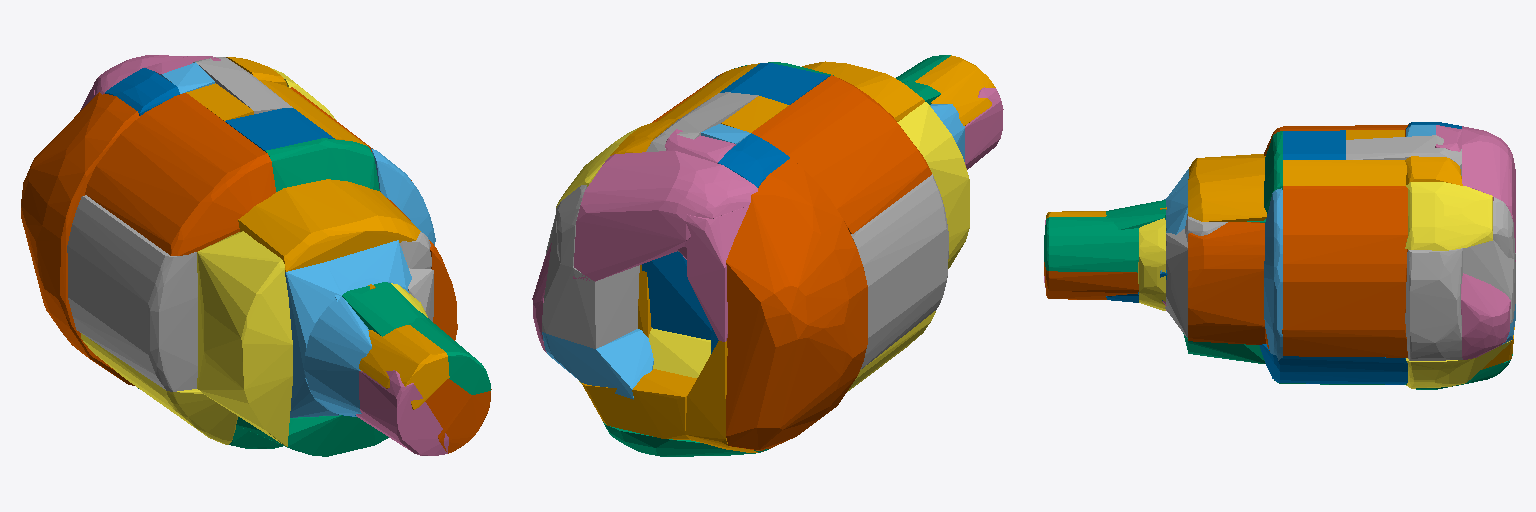
--- Facts derived from the render (not from the file) ---
3 views of the same robot in one strip: view 1: azimuth 30°, elevation 25°; view 2: azimuth 150°, elevation 25°; view 3: azimuth 270°, elevation 25° (orthographic).
Robot: root — 64 links, 63 joints (63 fixed); root link link_screw~screw2_convex_piece_0; default pose: every joint at zero.
Links seen in each view (by area): view 1: link_screw~screw2_convex_piece_61, link_screw~screw2_convex_piece_31, link_screw~screw2_convex_piece_51, link_screw~screw2_convex_piece_45, link_screw~screw2_convex_piece_32, link_screw~screw2_convex_piece_57, link_screw~screw2_convex_piece_54, link_screw~screw2_convex_piece_26, link_screw~screw2_convex_piece_25, link_screw~screw2_convex_piece_48, link_screw~screw2_convex_piece_43, link_screw~screw2_convex_piece_42 (+17 smaller); view 2: link_screw~screw2_convex_piece_45, link_screw~screw2_convex_piece_62, link_screw~screw2_convex_piece_61, link_screw~screw2_convex_piece_31, link_screw~screw2_convex_piece_55, link_screw~screw2_convex_piece_56, link_screw~screw2_convex_piece_51, link_screw~screw2_convex_piece_6, link_screw~screw2_convex_piece_33, link_screw~screw2_convex_piece_60, link_screw~screw2_convex_piece_40, link_screw~screw2_convex_piece_48 (+18 smaller); view 3: link_screw~screw2_convex_piece_21, link_screw~screw2_convex_piece_29, link_screw~screw2_convex_piece_23, link_screw~screw2_convex_piece_19, link_screw~screw2_convex_piece_32, link_screw~screw2_convex_piece_18, link_screw~screw2_convex_piece_28, link_screw~screw2_convex_piece_37, link_screw~screw2_convex_piece_62, link_screw~screw2_convex_piece_22, link_screw~screw2_convex_piece_24, link_screw~screw2_convex_piece_41 (+15 smaller).
Boxes of the visible links, left/top/right/bottom form: link_screw~screw2_convex_piece_61: left=85, top=93, right=275, bottom=255; link_screw~screw2_convex_piece_31: left=67, top=195, right=197, bottom=391; link_screw~screw2_convex_piece_51: left=197, top=231, right=292, bottom=446; link_screw~screw2_convex_piece_45: left=21, top=92, right=139, bottom=385; link_screw~screw2_convex_piece_32: left=238, top=179, right=420, bottom=271; link_screw~screw2_convex_piece_57: left=304, top=296, right=371, bottom=416; link_screw~screw2_convex_piece_54: left=356, top=370, right=448, bottom=455; link_screw~screw2_convex_piece_26: left=265, top=138, right=379, bottom=191; link_screw~screw2_convex_piece_25: left=285, top=262, right=341, bottom=417; link_screw~screw2_convex_piece_48: left=359, top=325, right=449, bottom=409; link_screw~screw2_convex_piece_43: left=81, top=333, right=238, bottom=444; link_screw~screw2_convex_piece_42: left=236, top=415, right=388, bottom=456; link_screw~screw2_convex_piece_45: left=726, top=158, right=867, bottom=451; link_screw~screw2_convex_piece_62: left=573, top=151, right=757, bottom=281; link_screw~screw2_convex_piece_61: left=752, top=75, right=931, bottom=233; link_screw~screw2_convex_piece_31: left=851, top=174, right=948, bottom=369; link_screw~screw2_convex_piece_55: left=542, top=217, right=639, bottom=348; link_screw~screw2_convex_piece_56: left=582, top=369, right=696, bottom=440; link_screw~screw2_convex_piece_51: left=897, top=102, right=969, bottom=268; link_screw~screw2_convex_piece_6: left=686, top=206, right=748, bottom=341; link_screw~screw2_convex_piece_33: left=542, top=329, right=653, bottom=399; link_screw~screw2_convex_piece_60: left=642, top=251, right=711, bottom=339; link_screw~screw2_convex_piece_40: left=685, top=341, right=757, bottom=452; link_screw~screw2_convex_piece_48: left=915, top=55, right=995, bottom=125; link_screw~screw2_convex_piece_21: left=1283, top=186, right=1407, bottom=329; link_screw~screw2_convex_piece_29: left=1188, top=222, right=1265, bottom=344; link_screw~screw2_convex_piece_23: left=1405, top=248, right=1462, bottom=360; link_screw~screw2_convex_piece_19: left=1405, top=182, right=1492, bottom=250; link_screw~screw2_convex_piece_32: left=1188, top=154, right=1266, bottom=221; link_screw~screw2_convex_piece_18: left=1044, top=217, right=1138, bottom=272; link_screw~screw2_convex_piece_28: left=1259, top=344, right=1407, bottom=384; link_screw~screw2_convex_piece_37: left=1265, top=324, right=1407, bottom=357; link_screw~screw2_convex_piece_62: left=1462, top=126, right=1515, bottom=261; link_screw~screw2_convex_piece_22: left=1461, top=273, right=1510, bottom=359; link_screw~screw2_convex_piece_24: left=1283, top=160, right=1406, bottom=185; link_screw~screw2_convex_piece_41: left=1264, top=188, right=1282, bottom=360.
Bounding box of the posed robot: 0.0341 × 0.0612 × 0.0346 m (x, y, z).
64 mesh visuals loaded from 64 distinct referenced files (64 OBJ).

URDF robot description (root):
<robot name="root">
  <link name="link_screw~screw2_convex_piece_0">
    <inertial>
      <origin xyz="0 0 0" rpy="0 0 0"/>
      <mass value="4.80E-04"/>
      <inertia ixx="9.96E-08" ixy="2.38E-09" ixz="8.96E-09" iyy="9.27E-08" iyz="-2.38E-08" izz="9.88E-09"/>
    </inertial>
    <visual>
      <origin xyz="0 0 0" rpy="0 0 0"/>
      <geometry>
        <mesh filename="screw~screw2_convex_piece_0.obj" scale="1.0000E+00 1.0000E+00 1.0000E+00"/>
      </geometry>
      <material name=""/>
    </visual>
    <collision>
      <origin xyz="0 0 0" rpy="0 0 0"/>
      <geometry>
        <mesh filename="screw~screw2_convex_piece_0.obj" scale="1.0000E+00 1.0000E+00 1.0000E+00"/>
      </geometry>
    </collision>
  </link>
  <link name="link_screw~screw2_convex_piece_1">
    <inertial>
      <origin xyz="0 0 0" rpy="0 0 0"/>
      <mass value="1.46E-03"/>
      <inertia ixx="6.79E-08" ixy="-4.08E-08" ixz="-9.71E-09" iyy="1.22E-07" iyz="-4.87E-09" izz="1.10E-07"/>
    </inertial>
    <visual>
      <origin xyz="0 0 0" rpy="0 0 0"/>
      <geometry>
        <mesh filename="screw~screw2_convex_piece_1.obj" scale="1.0000E+00 1.0000E+00 1.0000E+00"/>
      </geometry>
      <material name=""/>
    </visual>
    <collision>
      <origin xyz="0 0 0" rpy="0 0 0"/>
      <geometry>
        <mesh filename="screw~screw2_convex_piece_1.obj" scale="1.0000E+00 1.0000E+00 1.0000E+00"/>
      </geometry>
    </collision>
  </link>
  <joint name="link_screw~screw2_convex_piece_1_joint" type="fixed">
    <origin xyz="0 0 0" rpy="0 0 0"/>
    <parent link="link_screw~screw2_convex_piece_0"/>
    <child link="link_screw~screw2_convex_piece_1"/>
  </joint>
  <link name="link_screw~screw2_convex_piece_2">
    <inertial>
      <origin xyz="0 0 0" rpy="0 0 0"/>
      <mass value="2.32E-03"/>
      <inertia ixx="2.41E-07" ixy="1.24E-07" ixz="-7.33E-08" iyy="1.83E-07" iyz="7.82E-08" izz="3.02E-07"/>
    </inertial>
    <visual>
      <origin xyz="0 0 0" rpy="0 0 0"/>
      <geometry>
        <mesh filename="screw~screw2_convex_piece_2.obj" scale="1.0000E+00 1.0000E+00 1.0000E+00"/>
      </geometry>
      <material name=""/>
    </visual>
    <collision>
      <origin xyz="0 0 0" rpy="0 0 0"/>
      <geometry>
        <mesh filename="screw~screw2_convex_piece_2.obj" scale="1.0000E+00 1.0000E+00 1.0000E+00"/>
      </geometry>
    </collision>
  </link>
  <joint name="link_screw~screw2_convex_piece_2_joint" type="fixed">
    <origin xyz="0 0 0" rpy="0 0 0"/>
    <parent link="link_screw~screw2_convex_piece_1"/>
    <child link="link_screw~screw2_convex_piece_2"/>
  </joint>
  <link name="link_screw~screw2_convex_piece_3">
    <inertial>
      <origin xyz="0 0 0" rpy="0 0 0"/>
      <mass value="2.25E-03"/>
      <inertia ixx="9.09E-08" ixy="-6.30E-09" ixz="3.93E-09" iyy="2.51E-07" iyz="6.46E-10" izz="2.57E-07"/>
    </inertial>
    <visual>
      <origin xyz="0 0 0" rpy="0 0 0"/>
      <geometry>
        <mesh filename="screw~screw2_convex_piece_3.obj" scale="1.0000E+00 1.0000E+00 1.0000E+00"/>
      </geometry>
      <material name=""/>
    </visual>
    <collision>
      <origin xyz="0 0 0" rpy="0 0 0"/>
      <geometry>
        <mesh filename="screw~screw2_convex_piece_3.obj" scale="1.0000E+00 1.0000E+00 1.0000E+00"/>
      </geometry>
    </collision>
  </link>
  <joint name="link_screw~screw2_convex_piece_3_joint" type="fixed">
    <origin xyz="0 0 0" rpy="0 0 0"/>
    <parent link="link_screw~screw2_convex_piece_2"/>
    <child link="link_screw~screw2_convex_piece_3"/>
  </joint>
  <link name="link_screw~screw2_convex_piece_4">
    <inertial>
      <origin xyz="0 0 0" rpy="0 0 0"/>
      <mass value="1.32E-03"/>
      <inertia ixx="2.61E-07" ixy="5.47E-09" ixz="-1.68E-08" iyy="2.40E-07" iyz="7.14E-08" izz="3.89E-08"/>
    </inertial>
    <visual>
      <origin xyz="0 0 0" rpy="0 0 0"/>
      <geometry>
        <mesh filename="screw~screw2_convex_piece_4.obj" scale="1.0000E+00 1.0000E+00 1.0000E+00"/>
      </geometry>
      <material name=""/>
    </visual>
    <collision>
      <origin xyz="0 0 0" rpy="0 0 0"/>
      <geometry>
        <mesh filename="screw~screw2_convex_piece_4.obj" scale="1.0000E+00 1.0000E+00 1.0000E+00"/>
      </geometry>
    </collision>
  </link>
  <joint name="link_screw~screw2_convex_piece_4_joint" type="fixed">
    <origin xyz="0 0 0" rpy="0 0 0"/>
    <parent link="link_screw~screw2_convex_piece_3"/>
    <child link="link_screw~screw2_convex_piece_4"/>
  </joint>
  <link name="link_screw~screw2_convex_piece_5">
    <inertial>
      <origin xyz="0 0 0" rpy="0 0 0"/>
      <mass value="1.28E-03"/>
      <inertia ixx="1.69E-07" ixy="2.48E-08" ixz="-2.32E-08" iyy="7.94E-08" iyz="7.00E-08" izz="1.11E-07"/>
    </inertial>
    <visual>
      <origin xyz="0 0 0" rpy="0 0 0"/>
      <geometry>
        <mesh filename="screw~screw2_convex_piece_5.obj" scale="1.0000E+00 1.0000E+00 1.0000E+00"/>
      </geometry>
      <material name=""/>
    </visual>
    <collision>
      <origin xyz="0 0 0" rpy="0 0 0"/>
      <geometry>
        <mesh filename="screw~screw2_convex_piece_5.obj" scale="1.0000E+00 1.0000E+00 1.0000E+00"/>
      </geometry>
    </collision>
  </link>
  <joint name="link_screw~screw2_convex_piece_5_joint" type="fixed">
    <origin xyz="0 0 0" rpy="0 0 0"/>
    <parent link="link_screw~screw2_convex_piece_4"/>
    <child link="link_screw~screw2_convex_piece_5"/>
  </joint>
  <link name="link_screw~screw2_convex_piece_6">
    <inertial>
      <origin xyz="0 0 0" rpy="0 0 0"/>
      <mass value="9.29E-04"/>
      <inertia ixx="3.83E-07" ixy="1.06E-07" ixz="4.30E-08" iyy="1.02E-07" iyz="-1.31E-07" izz="3.55E-07"/>
    </inertial>
    <visual>
      <origin xyz="0 0 0" rpy="0 0 0"/>
      <geometry>
        <mesh filename="screw~screw2_convex_piece_6.obj" scale="1.0000E+00 1.0000E+00 1.0000E+00"/>
      </geometry>
      <material name=""/>
    </visual>
    <collision>
      <origin xyz="0 0 0" rpy="0 0 0"/>
      <geometry>
        <mesh filename="screw~screw2_convex_piece_6.obj" scale="1.0000E+00 1.0000E+00 1.0000E+00"/>
      </geometry>
    </collision>
  </link>
  <joint name="link_screw~screw2_convex_piece_6_joint" type="fixed">
    <origin xyz="0 0 0" rpy="0 0 0"/>
    <parent link="link_screw~screw2_convex_piece_5"/>
    <child link="link_screw~screw2_convex_piece_6"/>
  </joint>
  <link name="link_screw~screw2_convex_piece_7">
    <inertial>
      <origin xyz="0 0 0" rpy="0 0 0"/>
      <mass value="6.60E-04"/>
      <inertia ixx="4.32E-08" ixy="6.38E-09" ixz="-4.72E-09" iyy="1.26E-08" iyz="9.68E-09" izz="3.71E-08"/>
    </inertial>
    <visual>
      <origin xyz="0 0 0" rpy="0 0 0"/>
      <geometry>
        <mesh filename="screw~screw2_convex_piece_7.obj" scale="1.0000E+00 1.0000E+00 1.0000E+00"/>
      </geometry>
      <material name=""/>
    </visual>
    <collision>
      <origin xyz="0 0 0" rpy="0 0 0"/>
      <geometry>
        <mesh filename="screw~screw2_convex_piece_7.obj" scale="1.0000E+00 1.0000E+00 1.0000E+00"/>
      </geometry>
    </collision>
  </link>
  <joint name="link_screw~screw2_convex_piece_7_joint" type="fixed">
    <origin xyz="0 0 0" rpy="0 0 0"/>
    <parent link="link_screw~screw2_convex_piece_6"/>
    <child link="link_screw~screw2_convex_piece_7"/>
  </joint>
  <link name="link_screw~screw2_convex_piece_8">
    <inertial>
      <origin xyz="0 0 0" rpy="0 0 0"/>
      <mass value="1.54E-03"/>
      <inertia ixx="2.80E-07" ixy="-2.35E-08" ixz="8.76E-09" iyy="3.37E-08" iyz="6.24E-08" izz="2.57E-07"/>
    </inertial>
    <visual>
      <origin xyz="0 0 0" rpy="0 0 0"/>
      <geometry>
        <mesh filename="screw~screw2_convex_piece_8.obj" scale="1.0000E+00 1.0000E+00 1.0000E+00"/>
      </geometry>
      <material name=""/>
    </visual>
    <collision>
      <origin xyz="0 0 0" rpy="0 0 0"/>
      <geometry>
        <mesh filename="screw~screw2_convex_piece_8.obj" scale="1.0000E+00 1.0000E+00 1.0000E+00"/>
      </geometry>
    </collision>
  </link>
  <joint name="link_screw~screw2_convex_piece_8_joint" type="fixed">
    <origin xyz="0 0 0" rpy="0 0 0"/>
    <parent link="link_screw~screw2_convex_piece_7"/>
    <child link="link_screw~screw2_convex_piece_8"/>
  </joint>
  <link name="link_screw~screw2_convex_piece_9">
    <inertial>
      <origin xyz="0 0 0" rpy="0 0 0"/>
      <mass value="2.65E-03"/>
      <inertia ixx="3.70E-07" ixy="1.79E-07" ixz="6.34E-08" iyy="1.86E-07" iyz="-8.53E-08" izz="4.64E-07"/>
    </inertial>
    <visual>
      <origin xyz="0 0 0" rpy="0 0 0"/>
      <geometry>
        <mesh filename="screw~screw2_convex_piece_9.obj" scale="1.0000E+00 1.0000E+00 1.0000E+00"/>
      </geometry>
      <material name=""/>
    </visual>
    <collision>
      <origin xyz="0 0 0" rpy="0 0 0"/>
      <geometry>
        <mesh filename="screw~screw2_convex_piece_9.obj" scale="1.0000E+00 1.0000E+00 1.0000E+00"/>
      </geometry>
    </collision>
  </link>
  <joint name="link_screw~screw2_convex_piece_9_joint" type="fixed">
    <origin xyz="0 0 0" rpy="0 0 0"/>
    <parent link="link_screw~screw2_convex_piece_8"/>
    <child link="link_screw~screw2_convex_piece_9"/>
  </joint>
  <link name="link_screw~screw2_convex_piece_10">
    <inertial>
      <origin xyz="0 0 0" rpy="0 0 0"/>
      <mass value="1.97E-03"/>
      <inertia ixx="5.12E-07" ixy="-1.03E-08" ixz="1.30E-08" iyy="2.84E-07" iyz="2.49E-07" izz="3.28E-07"/>
    </inertial>
    <visual>
      <origin xyz="0 0 0" rpy="0 0 0"/>
      <geometry>
        <mesh filename="screw~screw2_convex_piece_10.obj" scale="1.0000E+00 1.0000E+00 1.0000E+00"/>
      </geometry>
      <material name=""/>
    </visual>
    <collision>
      <origin xyz="0 0 0" rpy="0 0 0"/>
      <geometry>
        <mesh filename="screw~screw2_convex_piece_10.obj" scale="1.0000E+00 1.0000E+00 1.0000E+00"/>
      </geometry>
    </collision>
  </link>
  <joint name="link_screw~screw2_convex_piece_10_joint" type="fixed">
    <origin xyz="0 0 0" rpy="0 0 0"/>
    <parent link="link_screw~screw2_convex_piece_9"/>
    <child link="link_screw~screw2_convex_piece_10"/>
  </joint>
  <link name="link_screw~screw2_convex_piece_11">
    <inertial>
      <origin xyz="0 0 0" rpy="0 0 0"/>
      <mass value="3.14E-03"/>
      <inertia ixx="3.65E-07" ixy="-4.70E-08" ixz="8.01E-08" iyy="2.36E-07" iyz="9.63E-08" izz="2.45E-07"/>
    </inertial>
    <visual>
      <origin xyz="0 0 0" rpy="0 0 0"/>
      <geometry>
        <mesh filename="screw~screw2_convex_piece_11.obj" scale="1.0000E+00 1.0000E+00 1.0000E+00"/>
      </geometry>
      <material name=""/>
    </visual>
    <collision>
      <origin xyz="0 0 0" rpy="0 0 0"/>
      <geometry>
        <mesh filename="screw~screw2_convex_piece_11.obj" scale="1.0000E+00 1.0000E+00 1.0000E+00"/>
      </geometry>
    </collision>
  </link>
  <joint name="link_screw~screw2_convex_piece_11_joint" type="fixed">
    <origin xyz="0 0 0" rpy="0 0 0"/>
    <parent link="link_screw~screw2_convex_piece_10"/>
    <child link="link_screw~screw2_convex_piece_11"/>
  </joint>
  <link name="link_screw~screw2_convex_piece_12">
    <inertial>
      <origin xyz="0 0 0" rpy="0 0 0"/>
      <mass value="5.05E-03"/>
      <inertia ixx="3.67E-07" ixy="-1.09E-07" ixz="-2.01E-08" iyy="2.59E-07" iyz="-1.55E-08" izz="4.71E-07"/>
    </inertial>
    <visual>
      <origin xyz="0 0 0" rpy="0 0 0"/>
      <geometry>
        <mesh filename="screw~screw2_convex_piece_12.obj" scale="1.0000E+00 1.0000E+00 1.0000E+00"/>
      </geometry>
      <material name=""/>
    </visual>
    <collision>
      <origin xyz="0 0 0" rpy="0 0 0"/>
      <geometry>
        <mesh filename="screw~screw2_convex_piece_12.obj" scale="1.0000E+00 1.0000E+00 1.0000E+00"/>
      </geometry>
    </collision>
  </link>
  <joint name="link_screw~screw2_convex_piece_12_joint" type="fixed">
    <origin xyz="0 0 0" rpy="0 0 0"/>
    <parent link="link_screw~screw2_convex_piece_11"/>
    <child link="link_screw~screw2_convex_piece_12"/>
  </joint>
  <link name="link_screw~screw2_convex_piece_13">
    <inertial>
      <origin xyz="0 0 0" rpy="0 0 0"/>
      <mass value="2.34E-03"/>
      <inertia ixx="2.57E-07" ixy="2.54E-10" ixz="7.43E-10" iyy="2.53E-07" iyz="-6.85E-09" izz="9.65E-08"/>
    </inertial>
    <visual>
      <origin xyz="0 0 0" rpy="0 0 0"/>
      <geometry>
        <mesh filename="screw~screw2_convex_piece_13.obj" scale="1.0000E+00 1.0000E+00 1.0000E+00"/>
      </geometry>
      <material name=""/>
    </visual>
    <collision>
      <origin xyz="0 0 0" rpy="0 0 0"/>
      <geometry>
        <mesh filename="screw~screw2_convex_piece_13.obj" scale="1.0000E+00 1.0000E+00 1.0000E+00"/>
      </geometry>
    </collision>
  </link>
  <joint name="link_screw~screw2_convex_piece_13_joint" type="fixed">
    <origin xyz="0 0 0" rpy="0 0 0"/>
    <parent link="link_screw~screw2_convex_piece_12"/>
    <child link="link_screw~screw2_convex_piece_13"/>
  </joint>
  <link name="link_screw~screw2_convex_piece_14">
    <inertial>
      <origin xyz="0 0 0" rpy="0 0 0"/>
      <mass value="2.22E-03"/>
      <inertia ixx="3.66E-07" ixy="5.08E-08" ixz="4.03E-08" iyy="9.96E-08" iyz="-8.82E-08" izz="3.24E-07"/>
    </inertial>
    <visual>
      <origin xyz="0 0 0" rpy="0 0 0"/>
      <geometry>
        <mesh filename="screw~screw2_convex_piece_14.obj" scale="1.0000E+00 1.0000E+00 1.0000E+00"/>
      </geometry>
      <material name=""/>
    </visual>
    <collision>
      <origin xyz="0 0 0" rpy="0 0 0"/>
      <geometry>
        <mesh filename="screw~screw2_convex_piece_14.obj" scale="1.0000E+00 1.0000E+00 1.0000E+00"/>
      </geometry>
    </collision>
  </link>
  <joint name="link_screw~screw2_convex_piece_14_joint" type="fixed">
    <origin xyz="0 0 0" rpy="0 0 0"/>
    <parent link="link_screw~screw2_convex_piece_13"/>
    <child link="link_screw~screw2_convex_piece_14"/>
  </joint>
  <link name="link_screw~screw2_convex_piece_15">
    <inertial>
      <origin xyz="0 0 0" rpy="0 0 0"/>
      <mass value="1.20E-04"/>
      <inertia ixx="5.70E-08" ixy="-2.56E-08" ixz="-9.71E-09" iyy="2.10E-08" iyz="-1.87E-08" izz="6.28E-08"/>
    </inertial>
    <visual>
      <origin xyz="0 0 0" rpy="0 0 0"/>
      <geometry>
        <mesh filename="screw~screw2_convex_piece_15.obj" scale="1.0000E+00 1.0000E+00 1.0000E+00"/>
      </geometry>
      <material name=""/>
    </visual>
    <collision>
      <origin xyz="0 0 0" rpy="0 0 0"/>
      <geometry>
        <mesh filename="screw~screw2_convex_piece_15.obj" scale="1.0000E+00 1.0000E+00 1.0000E+00"/>
      </geometry>
    </collision>
  </link>
  <joint name="link_screw~screw2_convex_piece_15_joint" type="fixed">
    <origin xyz="0 0 0" rpy="0 0 0"/>
    <parent link="link_screw~screw2_convex_piece_14"/>
    <child link="link_screw~screw2_convex_piece_15"/>
  </joint>
  <link name="link_screw~screw2_convex_piece_16">
    <inertial>
      <origin xyz="0 0 0" rpy="0 0 0"/>
      <mass value="2.30E-03"/>
      <inertia ixx="4.57E-07" ixy="-1.84E-07" ixz="-5.27E-08" iyy="2.47E-07" iyz="-8.90E-08" izz="4.37E-07"/>
    </inertial>
    <visual>
      <origin xyz="0 0 0" rpy="0 0 0"/>
      <geometry>
        <mesh filename="screw~screw2_convex_piece_16.obj" scale="1.0000E+00 1.0000E+00 1.0000E+00"/>
      </geometry>
      <material name=""/>
    </visual>
    <collision>
      <origin xyz="0 0 0" rpy="0 0 0"/>
      <geometry>
        <mesh filename="screw~screw2_convex_piece_16.obj" scale="1.0000E+00 1.0000E+00 1.0000E+00"/>
      </geometry>
    </collision>
  </link>
  <joint name="link_screw~screw2_convex_piece_16_joint" type="fixed">
    <origin xyz="0 0 0" rpy="0 0 0"/>
    <parent link="link_screw~screw2_convex_piece_15"/>
    <child link="link_screw~screw2_convex_piece_16"/>
  </joint>
  <link name="link_screw~screw2_convex_piece_17">
    <inertial>
      <origin xyz="0 0 0" rpy="0 0 0"/>
      <mass value="7.86E-04"/>
      <inertia ixx="1.53E-07" ixy="1.23E-08" ixz="1.09E-08" iyy="8.13E-08" iyz="-6.71E-08" izz="7.82E-08"/>
    </inertial>
    <visual>
      <origin xyz="0 0 0" rpy="0 0 0"/>
      <geometry>
        <mesh filename="screw~screw2_convex_piece_17.obj" scale="1.0000E+00 1.0000E+00 1.0000E+00"/>
      </geometry>
      <material name=""/>
    </visual>
    <collision>
      <origin xyz="0 0 0" rpy="0 0 0"/>
      <geometry>
        <mesh filename="screw~screw2_convex_piece_17.obj" scale="1.0000E+00 1.0000E+00 1.0000E+00"/>
      </geometry>
    </collision>
  </link>
  <joint name="link_screw~screw2_convex_piece_17_joint" type="fixed">
    <origin xyz="0 0 0" rpy="0 0 0"/>
    <parent link="link_screw~screw2_convex_piece_16"/>
    <child link="link_screw~screw2_convex_piece_17"/>
  </joint>
  <link name="link_screw~screw2_convex_piece_18">
    <inertial>
      <origin xyz="0 0 0" rpy="0 0 0"/>
      <mass value="6.26E-04"/>
      <inertia ixx="6.94E-07" ixy="6.23E-08" ixz="-4.94E-09" iyy="1.35E-08" iyz="6.10E-08" izz="6.94E-07"/>
    </inertial>
    <visual>
      <origin xyz="0 0 0" rpy="0 0 0"/>
      <geometry>
        <mesh filename="screw~screw2_convex_piece_18.obj" scale="1.0000E+00 1.0000E+00 1.0000E+00"/>
      </geometry>
      <material name=""/>
    </visual>
    <collision>
      <origin xyz="0 0 0" rpy="0 0 0"/>
      <geometry>
        <mesh filename="screw~screw2_convex_piece_18.obj" scale="1.0000E+00 1.0000E+00 1.0000E+00"/>
      </geometry>
    </collision>
  </link>
  <joint name="link_screw~screw2_convex_piece_18_joint" type="fixed">
    <origin xyz="0 0 0" rpy="0 0 0"/>
    <parent link="link_screw~screw2_convex_piece_17"/>
    <child link="link_screw~screw2_convex_piece_18"/>
  </joint>
  <link name="link_screw~screw2_convex_piece_19">
    <inertial>
      <origin xyz="0 0 0" rpy="0 0 0"/>
      <mass value="7.23E-04"/>
      <inertia ixx="2.06E-07" ixy="-1.04E-07" ixz="-8.32E-08" iyy="1.72E-07" iyz="-9.58E-08" izz="2.19E-07"/>
    </inertial>
    <visual>
      <origin xyz="0 0 0" rpy="0 0 0"/>
      <geometry>
        <mesh filename="screw~screw2_convex_piece_19.obj" scale="1.0000E+00 1.0000E+00 1.0000E+00"/>
      </geometry>
      <material name=""/>
    </visual>
    <collision>
      <origin xyz="0 0 0" rpy="0 0 0"/>
      <geometry>
        <mesh filename="screw~screw2_convex_piece_19.obj" scale="1.0000E+00 1.0000E+00 1.0000E+00"/>
      </geometry>
    </collision>
  </link>
  <joint name="link_screw~screw2_convex_piece_19_joint" type="fixed">
    <origin xyz="0 0 0" rpy="0 0 0"/>
    <parent link="link_screw~screw2_convex_piece_18"/>
    <child link="link_screw~screw2_convex_piece_19"/>
  </joint>
  <link name="link_screw~screw2_convex_piece_20">
    <inertial>
      <origin xyz="0 0 0" rpy="0 0 0"/>
      <mass value="2.56E-03"/>
      <inertia ixx="5.28E-07" ixy="1.76E-07" ixz="5.19E-08" iyy="2.56E-07" iyz="-1.07E-07" izz="4.57E-07"/>
    </inertial>
    <visual>
      <origin xyz="0 0 0" rpy="0 0 0"/>
      <geometry>
        <mesh filename="screw~screw2_convex_piece_20.obj" scale="1.0000E+00 1.0000E+00 1.0000E+00"/>
      </geometry>
      <material name=""/>
    </visual>
    <collision>
      <origin xyz="0 0 0" rpy="0 0 0"/>
      <geometry>
        <mesh filename="screw~screw2_convex_piece_20.obj" scale="1.0000E+00 1.0000E+00 1.0000E+00"/>
      </geometry>
    </collision>
  </link>
  <joint name="link_screw~screw2_convex_piece_20_joint" type="fixed">
    <origin xyz="0 0 0" rpy="0 0 0"/>
    <parent link="link_screw~screw2_convex_piece_19"/>
    <child link="link_screw~screw2_convex_piece_20"/>
  </joint>
  <link name="link_screw~screw2_convex_piece_21">
    <inertial>
      <origin xyz="0 0 0" rpy="0 0 0"/>
      <mass value="4.19E-03"/>
      <inertia ixx="2.37E-07" ixy="8.63E-09" ixz="-2.00E-07" iyy="8.29E-07" iyz="1.08E-09" izz="7.72E-07"/>
    </inertial>
    <visual>
      <origin xyz="0 0 0" rpy="0 0 0"/>
      <geometry>
        <mesh filename="screw~screw2_convex_piece_21.obj" scale="1.0000E+00 1.0000E+00 1.0000E+00"/>
      </geometry>
      <material name=""/>
    </visual>
    <collision>
      <origin xyz="0 0 0" rpy="0 0 0"/>
      <geometry>
        <mesh filename="screw~screw2_convex_piece_21.obj" scale="1.0000E+00 1.0000E+00 1.0000E+00"/>
      </geometry>
    </collision>
  </link>
  <joint name="link_screw~screw2_convex_piece_21_joint" type="fixed">
    <origin xyz="0 0 0" rpy="0 0 0"/>
    <parent link="link_screw~screw2_convex_piece_20"/>
    <child link="link_screw~screw2_convex_piece_21"/>
  </joint>
  <link name="link_screw~screw2_convex_piece_22">
    <inertial>
      <origin xyz="0 0 0" rpy="0 0 0"/>
      <mass value="3.16E-04"/>
      <inertia ixx="1.03E-07" ixy="-8.04E-08" ixz="1.01E-08" iyy="7.03E-08" iyz="1.25E-08" izz="1.65E-07"/>
    </inertial>
    <visual>
      <origin xyz="0 0 0" rpy="0 0 0"/>
      <geometry>
        <mesh filename="screw~screw2_convex_piece_22.obj" scale="1.0000E+00 1.0000E+00 1.0000E+00"/>
      </geometry>
      <material name=""/>
    </visual>
    <collision>
      <origin xyz="0 0 0" rpy="0 0 0"/>
      <geometry>
        <mesh filename="screw~screw2_convex_piece_22.obj" scale="1.0000E+00 1.0000E+00 1.0000E+00"/>
      </geometry>
    </collision>
  </link>
  <joint name="link_screw~screw2_convex_piece_22_joint" type="fixed">
    <origin xyz="0 0 0" rpy="0 0 0"/>
    <parent link="link_screw~screw2_convex_piece_21"/>
    <child link="link_screw~screw2_convex_piece_22"/>
  </joint>
  <link name="link_screw~screw2_convex_piece_23">
    <inertial>
      <origin xyz="0 0 0" rpy="0 0 0"/>
      <mass value="2.51E-03"/>
      <inertia ixx="3.93E-07" ixy="-3.67E-07" ixz="3.74E-09" iyy="4.69E-07" iyz="3.15E-09" izz="7.59E-07"/>
    </inertial>
    <visual>
      <origin xyz="0 0 0" rpy="0 0 0"/>
      <geometry>
        <mesh filename="screw~screw2_convex_piece_23.obj" scale="1.0000E+00 1.0000E+00 1.0000E+00"/>
      </geometry>
      <material name=""/>
    </visual>
    <collision>
      <origin xyz="0 0 0" rpy="0 0 0"/>
      <geometry>
        <mesh filename="screw~screw2_convex_piece_23.obj" scale="1.0000E+00 1.0000E+00 1.0000E+00"/>
      </geometry>
    </collision>
  </link>
  <joint name="link_screw~screw2_convex_piece_23_joint" type="fixed">
    <origin xyz="0 0 0" rpy="0 0 0"/>
    <parent link="link_screw~screw2_convex_piece_22"/>
    <child link="link_screw~screw2_convex_piece_23"/>
  </joint>
  <link name="link_screw~screw2_convex_piece_24">
    <inertial>
      <origin xyz="0 0 0" rpy="0 0 0"/>
      <mass value="1.07E-03"/>
      <inertia ixx="1.90E-07" ixy="2.38E-09" ixz="-9.33E-08" iyy="2.22E-07" iyz="4.11E-09" izz="7.77E-08"/>
    </inertial>
    <visual>
      <origin xyz="0 0 0" rpy="0 0 0"/>
      <geometry>
        <mesh filename="screw~screw2_convex_piece_24.obj" scale="1.0000E+00 1.0000E+00 1.0000E+00"/>
      </geometry>
      <material name=""/>
    </visual>
    <collision>
      <origin xyz="0 0 0" rpy="0 0 0"/>
      <geometry>
        <mesh filename="screw~screw2_convex_piece_24.obj" scale="1.0000E+00 1.0000E+00 1.0000E+00"/>
      </geometry>
    </collision>
  </link>
  <joint name="link_screw~screw2_convex_piece_24_joint" type="fixed">
    <origin xyz="0 0 0" rpy="0 0 0"/>
    <parent link="link_screw~screw2_convex_piece_23"/>
    <child link="link_screw~screw2_convex_piece_24"/>
  </joint>
  <link name="link_screw~screw2_convex_piece_25">
    <inertial>
      <origin xyz="0 0 0" rpy="0 0 0"/>
      <mass value="1.67E-03"/>
      <inertia ixx="6.53E-07" ixy="-1.67E-07" ixz="7.76E-09" iyy="8.71E-08" iyz="2.63E-08" izz="6.65E-07"/>
    </inertial>
    <visual>
      <origin xyz="0 0 0" rpy="0 0 0"/>
      <geometry>
        <mesh filename="screw~screw2_convex_piece_25.obj" scale="1.0000E+00 1.0000E+00 1.0000E+00"/>
      </geometry>
      <material name=""/>
    </visual>
    <collision>
      <origin xyz="0 0 0" rpy="0 0 0"/>
      <geometry>
        <mesh filename="screw~screw2_convex_piece_25.obj" scale="1.0000E+00 1.0000E+00 1.0000E+00"/>
      </geometry>
    </collision>
  </link>
  <joint name="link_screw~screw2_convex_piece_25_joint" type="fixed">
    <origin xyz="0 0 0" rpy="0 0 0"/>
    <parent link="link_screw~screw2_convex_piece_24"/>
    <child link="link_screw~screw2_convex_piece_25"/>
  </joint>
  <link name="link_screw~screw2_convex_piece_26">
    <inertial>
      <origin xyz="0 0 0" rpy="0 0 0"/>
      <mass value="4.54E-04"/>
      <inertia ixx="1.11E-07" ixy="1.14E-08" ixz="-1.45E-08" iyy="7.98E-08" iyz="5.25E-08" izz="4.84E-08"/>
    </inertial>
    <visual>
      <origin xyz="0 0 0" rpy="0 0 0"/>
      <geometry>
        <mesh filename="screw~screw2_convex_piece_26.obj" scale="1.0000E+00 1.0000E+00 1.0000E+00"/>
      </geometry>
      <material name=""/>
    </visual>
    <collision>
      <origin xyz="0 0 0" rpy="0 0 0"/>
      <geometry>
        <mesh filename="screw~screw2_convex_piece_26.obj" scale="1.0000E+00 1.0000E+00 1.0000E+00"/>
      </geometry>
    </collision>
  </link>
  <joint name="link_screw~screw2_convex_piece_26_joint" type="fixed">
    <origin xyz="0 0 0" rpy="0 0 0"/>
    <parent link="link_screw~screw2_convex_piece_25"/>
    <child link="link_screw~screw2_convex_piece_26"/>
  </joint>
  <link name="link_screw~screw2_convex_piece_27">
    <inertial>
      <origin xyz="0 0 0" rpy="0 0 0"/>
      <mass value="7.50E-04"/>
      <inertia ixx="2.08E-07" ixy="-1.01E-07" ixz="8.31E-08" iyy="1.72E-07" iyz="9.70E-08" izz="2.13E-07"/>
    </inertial>
    <visual>
      <origin xyz="0 0 0" rpy="0 0 0"/>
      <geometry>
        <mesh filename="screw~screw2_convex_piece_27.obj" scale="1.0000E+00 1.0000E+00 1.0000E+00"/>
      </geometry>
      <material name=""/>
    </visual>
    <collision>
      <origin xyz="0 0 0" rpy="0 0 0"/>
      <geometry>
        <mesh filename="screw~screw2_convex_piece_27.obj" scale="1.0000E+00 1.0000E+00 1.0000E+00"/>
      </geometry>
    </collision>
  </link>
  <joint name="link_screw~screw2_convex_piece_27_joint" type="fixed">
    <origin xyz="0 0 0" rpy="0 0 0"/>
    <parent link="link_screw~screw2_convex_piece_26"/>
    <child link="link_screw~screw2_convex_piece_27"/>
  </joint>
  <link name="link_screw~screw2_convex_piece_28">
    <inertial>
      <origin xyz="0 0 0" rpy="0 0 0"/>
      <mass value="1.57E-03"/>
      <inertia ixx="2.11E-07" ixy="1.67E-08" ixz="1.65E-07" iyy="3.44E-07" iyz="-1.63E-08" izz="2.22E-07"/>
    </inertial>
    <visual>
      <origin xyz="0 0 0" rpy="0 0 0"/>
      <geometry>
        <mesh filename="screw~screw2_convex_piece_28.obj" scale="1.0000E+00 1.0000E+00 1.0000E+00"/>
      </geometry>
      <material name=""/>
    </visual>
    <collision>
      <origin xyz="0 0 0" rpy="0 0 0"/>
      <geometry>
        <mesh filename="screw~screw2_convex_piece_28.obj" scale="1.0000E+00 1.0000E+00 1.0000E+00"/>
      </geometry>
    </collision>
  </link>
  <joint name="link_screw~screw2_convex_piece_28_joint" type="fixed">
    <origin xyz="0 0 0" rpy="0 0 0"/>
    <parent link="link_screw~screw2_convex_piece_27"/>
    <child link="link_screw~screw2_convex_piece_28"/>
  </joint>
  <link name="link_screw~screw2_convex_piece_29">
    <inertial>
      <origin xyz="0 0 0" rpy="0 0 0"/>
      <mass value="1.36E-03"/>
      <inertia ixx="3.38E-07" ixy="2.16E-07" ixz="-4.43E-09" iyy="1.79E-07" iyz="5.87E-09" izz="4.70E-07"/>
    </inertial>
    <visual>
      <origin xyz="0 0 0" rpy="0 0 0"/>
      <geometry>
        <mesh filename="screw~screw2_convex_piece_29.obj" scale="1.0000E+00 1.0000E+00 1.0000E+00"/>
      </geometry>
      <material name=""/>
    </visual>
    <collision>
      <origin xyz="0 0 0" rpy="0 0 0"/>
      <geometry>
        <mesh filename="screw~screw2_convex_piece_29.obj" scale="1.0000E+00 1.0000E+00 1.0000E+00"/>
      </geometry>
    </collision>
  </link>
  <joint name="link_screw~screw2_convex_piece_29_joint" type="fixed">
    <origin xyz="0 0 0" rpy="0 0 0"/>
    <parent link="link_screw~screw2_convex_piece_28"/>
    <child link="link_screw~screw2_convex_piece_29"/>
  </joint>
  <link name="link_screw~screw2_convex_piece_30">
    <inertial>
      <origin xyz="0 0 0" rpy="0 0 0"/>
      <mass value="3.46E-04"/>
      <inertia ixx="8.19E-08" ixy="8.67E-09" ixz="3.48E-09" iyy="1.50E-08" iyz="-2.89E-08" izz="7.01E-08"/>
    </inertial>
    <visual>
      <origin xyz="0 0 0" rpy="0 0 0"/>
      <geometry>
        <mesh filename="screw~screw2_convex_piece_30.obj" scale="1.0000E+00 1.0000E+00 1.0000E+00"/>
      </geometry>
      <material name=""/>
    </visual>
    <collision>
      <origin xyz="0 0 0" rpy="0 0 0"/>
      <geometry>
        <mesh filename="screw~screw2_convex_piece_30.obj" scale="1.0000E+00 1.0000E+00 1.0000E+00"/>
      </geometry>
    </collision>
  </link>
  <joint name="link_screw~screw2_convex_piece_30_joint" type="fixed">
    <origin xyz="0 0 0" rpy="0 0 0"/>
    <parent link="link_screw~screw2_convex_piece_29"/>
    <child link="link_screw~screw2_convex_piece_30"/>
  </joint>
  <link name="link_screw~screw2_convex_piece_31">
    <inertial>
      <origin xyz="0 0 0" rpy="0 0 0"/>
      <mass value="3.64E-03"/>
      <inertia ixx="1.56E-07" ixy="-4.02E-08" ixz="1.90E-08" iyy="7.62E-07" iyz="8.02E-10" izz="7.96E-07"/>
    </inertial>
    <visual>
      <origin xyz="0 0 0" rpy="0 0 0"/>
      <geometry>
        <mesh filename="screw~screw2_convex_piece_31.obj" scale="1.0000E+00 1.0000E+00 1.0000E+00"/>
      </geometry>
      <material name=""/>
    </visual>
    <collision>
      <origin xyz="0 0 0" rpy="0 0 0"/>
      <geometry>
        <mesh filename="screw~screw2_convex_piece_31.obj" scale="1.0000E+00 1.0000E+00 1.0000E+00"/>
      </geometry>
    </collision>
  </link>
  <joint name="link_screw~screw2_convex_piece_31_joint" type="fixed">
    <origin xyz="0 0 0" rpy="0 0 0"/>
    <parent link="link_screw~screw2_convex_piece_30"/>
    <child link="link_screw~screw2_convex_piece_31"/>
  </joint>
  <link name="link_screw~screw2_convex_piece_32">
    <inertial>
      <origin xyz="0 0 0" rpy="0 0 0"/>
      <mass value="1.42E-03"/>
      <inertia ixx="4.89E-07" ixy="5.10E-09" ixz="-3.55E-09" iyy="1.86E-07" iyz="2.24E-07" izz="3.51E-07"/>
    </inertial>
    <visual>
      <origin xyz="0 0 0" rpy="0 0 0"/>
      <geometry>
        <mesh filename="screw~screw2_convex_piece_32.obj" scale="1.0000E+00 1.0000E+00 1.0000E+00"/>
      </geometry>
      <material name=""/>
    </visual>
    <collision>
      <origin xyz="0 0 0" rpy="0 0 0"/>
      <geometry>
        <mesh filename="screw~screw2_convex_piece_32.obj" scale="1.0000E+00 1.0000E+00 1.0000E+00"/>
      </geometry>
    </collision>
  </link>
  <joint name="link_screw~screw2_convex_piece_32_joint" type="fixed">
    <origin xyz="0 0 0" rpy="0 0 0"/>
    <parent link="link_screw~screw2_convex_piece_31"/>
    <child link="link_screw~screw2_convex_piece_32"/>
  </joint>
  <link name="link_screw~screw2_convex_piece_33">
    <inertial>
      <origin xyz="0 0 0" rpy="0 0 0"/>
      <mass value="8.13E-04"/>
      <inertia ixx="3.11E-07" ixy="-1.26E-07" ixz="4.05E-08" iyy="9.46E-08" iyz="9.00E-08" izz="3.44E-07"/>
    </inertial>
    <visual>
      <origin xyz="0 0 0" rpy="0 0 0"/>
      <geometry>
        <mesh filename="screw~screw2_convex_piece_33.obj" scale="1.0000E+00 1.0000E+00 1.0000E+00"/>
      </geometry>
      <material name=""/>
    </visual>
    <collision>
      <origin xyz="0 0 0" rpy="0 0 0"/>
      <geometry>
        <mesh filename="screw~screw2_convex_piece_33.obj" scale="1.0000E+00 1.0000E+00 1.0000E+00"/>
      </geometry>
    </collision>
  </link>
  <joint name="link_screw~screw2_convex_piece_33_joint" type="fixed">
    <origin xyz="0 0 0" rpy="0 0 0"/>
    <parent link="link_screw~screw2_convex_piece_32"/>
    <child link="link_screw~screw2_convex_piece_33"/>
  </joint>
  <link name="link_screw~screw2_convex_piece_34">
    <inertial>
      <origin xyz="0 0 0" rpy="0 0 0"/>
      <mass value="3.82E-03"/>
      <inertia ixx="8.25E-07" ixy="6.78E-10" ixz="4.23E-09" iyy="7.89E-07" iyz="-4.54E-08" izz="1.71E-07"/>
    </inertial>
    <visual>
      <origin xyz="0 0 0" rpy="0 0 0"/>
      <geometry>
        <mesh filename="screw~screw2_convex_piece_34.obj" scale="1.0000E+00 1.0000E+00 1.0000E+00"/>
      </geometry>
      <material name=""/>
    </visual>
    <collision>
      <origin xyz="0 0 0" rpy="0 0 0"/>
      <geometry>
        <mesh filename="screw~screw2_convex_piece_34.obj" scale="1.0000E+00 1.0000E+00 1.0000E+00"/>
      </geometry>
    </collision>
  </link>
  <joint name="link_screw~screw2_convex_piece_34_joint" type="fixed">
    <origin xyz="0 0 0" rpy="0 0 0"/>
    <parent link="link_screw~screw2_convex_piece_33"/>
    <child link="link_screw~screw2_convex_piece_34"/>
  </joint>
  <link name="link_screw~screw2_convex_piece_35">
    <inertial>
      <origin xyz="0 0 0" rpy="0 0 0"/>
      <mass value="1.11E-03"/>
      <inertia ixx="2.06E-07" ixy="-6.18E-09" ixz="3.04E-09" iyy="5.47E-08" iyz="8.15E-08" izz="1.68E-07"/>
    </inertial>
    <visual>
      <origin xyz="0 0 0" rpy="0 0 0"/>
      <geometry>
        <mesh filename="screw~screw2_convex_piece_35.obj" scale="1.0000E+00 1.0000E+00 1.0000E+00"/>
      </geometry>
      <material name=""/>
    </visual>
    <collision>
      <origin xyz="0 0 0" rpy="0 0 0"/>
      <geometry>
        <mesh filename="screw~screw2_convex_piece_35.obj" scale="1.0000E+00 1.0000E+00 1.0000E+00"/>
      </geometry>
    </collision>
  </link>
  <joint name="link_screw~screw2_convex_piece_35_joint" type="fixed">
    <origin xyz="0 0 0" rpy="0 0 0"/>
    <parent link="link_screw~screw2_convex_piece_34"/>
    <child link="link_screw~screw2_convex_piece_35"/>
  </joint>
  <link name="link_screw~screw2_convex_piece_36">
    <inertial>
      <origin xyz="0 0 0" rpy="0 0 0"/>
      <mass value="2.08E-03"/>
      <inertia ixx="4.10E-07" ixy="-3.06E-08" ixz="-1.28E-08" iyy="4.62E-08" iyz="-7.87E-08" izz="3.81E-07"/>
    </inertial>
    <visual>
      <origin xyz="0 0 0" rpy="0 0 0"/>
      <geometry>
        <mesh filename="screw~screw2_convex_piece_36.obj" scale="1.0000E+00 1.0000E+00 1.0000E+00"/>
      </geometry>
      <material name=""/>
    </visual>
    <collision>
      <origin xyz="0 0 0" rpy="0 0 0"/>
      <geometry>
        <mesh filename="screw~screw2_convex_piece_36.obj" scale="1.0000E+00 1.0000E+00 1.0000E+00"/>
      </geometry>
    </collision>
  </link>
  <joint name="link_screw~screw2_convex_piece_36_joint" type="fixed">
    <origin xyz="0 0 0" rpy="0 0 0"/>
    <parent link="link_screw~screw2_convex_piece_35"/>
    <child link="link_screw~screw2_convex_piece_36"/>
  </joint>
  <link name="link_screw~screw2_convex_piece_37">
    <inertial>
      <origin xyz="0 0 0" rpy="0 0 0"/>
      <mass value="1.43E-03"/>
      <inertia ixx="8.27E-08" ixy="2.06E-08" ixz="9.64E-08" iyy="2.81E-07" iyz="-8.96E-09" izz="2.77E-07"/>
    </inertial>
    <visual>
      <origin xyz="0 0 0" rpy="0 0 0"/>
      <geometry>
        <mesh filename="screw~screw2_convex_piece_37.obj" scale="1.0000E+00 1.0000E+00 1.0000E+00"/>
      </geometry>
      <material name=""/>
    </visual>
    <collision>
      <origin xyz="0 0 0" rpy="0 0 0"/>
      <geometry>
        <mesh filename="screw~screw2_convex_piece_37.obj" scale="1.0000E+00 1.0000E+00 1.0000E+00"/>
      </geometry>
    </collision>
  </link>
  <joint name="link_screw~screw2_convex_piece_37_joint" type="fixed">
    <origin xyz="0 0 0" rpy="0 0 0"/>
    <parent link="link_screw~screw2_convex_piece_36"/>
    <child link="link_screw~screw2_convex_piece_37"/>
  </joint>
  <link name="link_screw~screw2_convex_piece_38">
    <inertial>
      <origin xyz="0 0 0" rpy="0 0 0"/>
      <mass value="2.96E-04"/>
      <inertia ixx="6.99E-08" ixy="6.81E-09" ixz="7.11E-10" iyy="2.06E-09" iyz="-5.44E-09" izz="7.02E-08"/>
    </inertial>
    <visual>
      <origin xyz="0 0 0" rpy="0 0 0"/>
      <geometry>
        <mesh filename="screw~screw2_convex_piece_38.obj" scale="1.0000E+00 1.0000E+00 1.0000E+00"/>
      </geometry>
      <material name=""/>
    </visual>
    <collision>
      <origin xyz="0 0 0" rpy="0 0 0"/>
      <geometry>
        <mesh filename="screw~screw2_convex_piece_38.obj" scale="1.0000E+00 1.0000E+00 1.0000E+00"/>
      </geometry>
    </collision>
  </link>
  <joint name="link_screw~screw2_convex_piece_38_joint" type="fixed">
    <origin xyz="0 0 0" rpy="0 0 0"/>
    <parent link="link_screw~screw2_convex_piece_37"/>
    <child link="link_screw~screw2_convex_piece_38"/>
  </joint>
  <link name="link_screw~screw2_convex_piece_39">
    <inertial>
      <origin xyz="0 0 0" rpy="0 0 0"/>
      <mass value="2.61E-03"/>
      <inertia ixx="5.27E-07" ixy="-5.35E-08" ixz="-7.47E-08" iyy="3.51E-07" iyz="-2.11E-07" izz="2.23E-07"/>
    </inertial>
    <visual>
      <origin xyz="0 0 0" rpy="0 0 0"/>
      <geometry>
        <mesh filename="screw~screw2_convex_piece_39.obj" scale="1.0000E+00 1.0000E+00 1.0000E+00"/>
      </geometry>
      <material name=""/>
    </visual>
    <collision>
      <origin xyz="0 0 0" rpy="0 0 0"/>
      <geometry>
        <mesh filename="screw~screw2_convex_piece_39.obj" scale="1.0000E+00 1.0000E+00 1.0000E+00"/>
      </geometry>
    </collision>
  </link>
  <joint name="link_screw~screw2_convex_piece_39_joint" type="fixed">
    <origin xyz="0 0 0" rpy="0 0 0"/>
    <parent link="link_screw~screw2_convex_piece_38"/>
    <child link="link_screw~screw2_convex_piece_39"/>
  </joint>
  <link name="link_screw~screw2_convex_piece_40">
    <inertial>
      <origin xyz="0 0 0" rpy="0 0 0"/>
      <mass value="1.01E-03"/>
      <inertia ixx="4.09E-07" ixy="1.13E-07" ixz="-4.47E-08" iyy="1.09E-07" iyz="1.36E-07" izz="3.79E-07"/>
    </inertial>
    <visual>
      <origin xyz="0 0 0" rpy="0 0 0"/>
      <geometry>
        <mesh filename="screw~screw2_convex_piece_40.obj" scale="1.0000E+00 1.0000E+00 1.0000E+00"/>
      </geometry>
      <material name=""/>
    </visual>
    <collision>
      <origin xyz="0 0 0" rpy="0 0 0"/>
      <geometry>
        <mesh filename="screw~screw2_convex_piece_40.obj" scale="1.0000E+00 1.0000E+00 1.0000E+00"/>
      </geometry>
    </collision>
  </link>
  <joint name="link_screw~screw2_convex_piece_40_joint" type="fixed">
    <origin xyz="0 0 0" rpy="0 0 0"/>
    <parent link="link_screw~screw2_convex_piece_39"/>
    <child link="link_screw~screw2_convex_piece_40"/>
  </joint>
  <link name="link_screw~screw2_convex_piece_41">
    <inertial>
      <origin xyz="0 0 0" rpy="0 0 0"/>
      <mass value="5.88E-04"/>
      <inertia ixx="6.74E-08" ixy="6.74E-08" ixz="-1.50E-08" iyy="1.09E-07" iyz="1.26E-08" izz="1.43E-07"/>
    </inertial>
    <visual>
      <origin xyz="0 0 0" rpy="0 0 0"/>
      <geometry>
        <mesh filename="screw~screw2_convex_piece_41.obj" scale="1.0000E+00 1.0000E+00 1.0000E+00"/>
      </geometry>
      <material name=""/>
    </visual>
    <collision>
      <origin xyz="0 0 0" rpy="0 0 0"/>
      <geometry>
        <mesh filename="screw~screw2_convex_piece_41.obj" scale="1.0000E+00 1.0000E+00 1.0000E+00"/>
      </geometry>
    </collision>
  </link>
  <joint name="link_screw~screw2_convex_piece_41_joint" type="fixed">
    <origin xyz="0 0 0" rpy="0 0 0"/>
    <parent link="link_screw~screw2_convex_piece_40"/>
    <child link="link_screw~screw2_convex_piece_41"/>
  </joint>
  <link name="link_screw~screw2_convex_piece_42">
    <inertial>
      <origin xyz="0 0 0" rpy="0 0 0"/>
      <mass value="2.65E-03"/>
      <inertia ixx="8.67E-07" ixy="1.88E-08" ixz="1.10E-08" iyy="3.12E-07" iyz="-3.80E-07" izz="6.69E-07"/>
    </inertial>
    <visual>
      <origin xyz="0 0 0" rpy="0 0 0"/>
      <geometry>
        <mesh filename="screw~screw2_convex_piece_42.obj" scale="1.0000E+00 1.0000E+00 1.0000E+00"/>
      </geometry>
      <material name=""/>
    </visual>
    <collision>
      <origin xyz="0 0 0" rpy="0 0 0"/>
      <geometry>
        <mesh filename="screw~screw2_convex_piece_42.obj" scale="1.0000E+00 1.0000E+00 1.0000E+00"/>
      </geometry>
    </collision>
  </link>
  <joint name="link_screw~screw2_convex_piece_42_joint" type="fixed">
    <origin xyz="0 0 0" rpy="0 0 0"/>
    <parent link="link_screw~screw2_convex_piece_41"/>
    <child link="link_screw~screw2_convex_piece_42"/>
  </joint>
  <link name="link_screw~screw2_convex_piece_43">
    <inertial>
      <origin xyz="0 0 0" rpy="0 0 0"/>
      <mass value="1.81E-03"/>
      <inertia ixx="2.42E-07" ixy="-2.25E-08" ixz="-1.86E-07" iyy="3.93E-07" iyz="-2.12E-08" izz="2.60E-07"/>
    </inertial>
    <visual>
      <origin xyz="0 0 0" rpy="0 0 0"/>
      <geometry>
        <mesh filename="screw~screw2_convex_piece_43.obj" scale="1.0000E+00 1.0000E+00 1.0000E+00"/>
      </geometry>
      <material name=""/>
    </visual>
    <collision>
      <origin xyz="0 0 0" rpy="0 0 0"/>
      <geometry>
        <mesh filename="screw~screw2_convex_piece_43.obj" scale="1.0000E+00 1.0000E+00 1.0000E+00"/>
      </geometry>
    </collision>
  </link>
  <joint name="link_screw~screw2_convex_piece_43_joint" type="fixed">
    <origin xyz="0 0 0" rpy="0 0 0"/>
    <parent link="link_screw~screw2_convex_piece_42"/>
    <child link="link_screw~screw2_convex_piece_43"/>
  </joint>
  <link name="link_screw~screw2_convex_piece_44">
    <inertial>
      <origin xyz="0 0 0" rpy="0 0 0"/>
      <mass value="3.59E-04"/>
      <inertia ixx="3.06E-07" ixy="-2.56E-09" ixz="-1.64E-10" iyy="7.02E-09" iyz="-3.76E-08" izz="3.02E-07"/>
    </inertial>
    <visual>
      <origin xyz="0 0 0" rpy="0 0 0"/>
      <geometry>
        <mesh filename="screw~screw2_convex_piece_44.obj" scale="1.0000E+00 1.0000E+00 1.0000E+00"/>
      </geometry>
      <material name=""/>
    </visual>
    <collision>
      <origin xyz="0 0 0" rpy="0 0 0"/>
      <geometry>
        <mesh filename="screw~screw2_convex_piece_44.obj" scale="1.0000E+00 1.0000E+00 1.0000E+00"/>
      </geometry>
    </collision>
  </link>
  <joint name="link_screw~screw2_convex_piece_44_joint" type="fixed">
    <origin xyz="0 0 0" rpy="0 0 0"/>
    <parent link="link_screw~screw2_convex_piece_43"/>
    <child link="link_screw~screw2_convex_piece_44"/>
  </joint>
  <link name="link_screw~screw2_convex_piece_45">
    <inertial>
      <origin xyz="0 0 0" rpy="0 0 0"/>
      <mass value="6.53E-03"/>
      <inertia ixx="1.65E-06" ixy="1.05E-06" ixz="1.62E-09" iyy="1.20E-06" iyz="4.87E-09" izz="2.27E-06"/>
    </inertial>
    <visual>
      <origin xyz="0 0 0" rpy="0 0 0"/>
      <geometry>
        <mesh filename="screw~screw2_convex_piece_45.obj" scale="1.0000E+00 1.0000E+00 1.0000E+00"/>
      </geometry>
      <material name=""/>
    </visual>
    <collision>
      <origin xyz="0 0 0" rpy="0 0 0"/>
      <geometry>
        <mesh filename="screw~screw2_convex_piece_45.obj" scale="1.0000E+00 1.0000E+00 1.0000E+00"/>
      </geometry>
    </collision>
  </link>
  <joint name="link_screw~screw2_convex_piece_45_joint" type="fixed">
    <origin xyz="0 0 0" rpy="0 0 0"/>
    <parent link="link_screw~screw2_convex_piece_44"/>
    <child link="link_screw~screw2_convex_piece_45"/>
  </joint>
  <link name="link_screw~screw2_convex_piece_46">
    <inertial>
      <origin xyz="0 0 0" rpy="0 0 0"/>
      <mass value="5.35E-04"/>
      <inertia ixx="1.96E-07" ixy="2.69E-09" ixz="2.19E-09" iyy="1.02E-07" iyz="-9.62E-08" izz="9.76E-08"/>
    </inertial>
    <visual>
      <origin xyz="0 0 0" rpy="0 0 0"/>
      <geometry>
        <mesh filename="screw~screw2_convex_piece_46.obj" scale="1.0000E+00 1.0000E+00 1.0000E+00"/>
      </geometry>
      <material name=""/>
    </visual>
    <collision>
      <origin xyz="0 0 0" rpy="0 0 0"/>
      <geometry>
        <mesh filename="screw~screw2_convex_piece_46.obj" scale="1.0000E+00 1.0000E+00 1.0000E+00"/>
      </geometry>
    </collision>
  </link>
  <joint name="link_screw~screw2_convex_piece_46_joint" type="fixed">
    <origin xyz="0 0 0" rpy="0 0 0"/>
    <parent link="link_screw~screw2_convex_piece_45"/>
    <child link="link_screw~screw2_convex_piece_46"/>
  </joint>
  <link name="link_screw~screw2_convex_piece_47">
    <inertial>
      <origin xyz="0 0 0" rpy="0 0 0"/>
      <mass value="5.12E-04"/>
      <inertia ixx="2.34E-07" ixy="7.47E-08" ixz="2.97E-09" iyy="3.33E-08" iyz="-8.28E-09" izz="2.52E-07"/>
    </inertial>
    <visual>
      <origin xyz="0 0 0" rpy="0 0 0"/>
      <geometry>
        <mesh filename="screw~screw2_convex_piece_47.obj" scale="1.0000E+00 1.0000E+00 1.0000E+00"/>
      </geometry>
      <material name=""/>
    </visual>
    <collision>
      <origin xyz="0 0 0" rpy="0 0 0"/>
      <geometry>
        <mesh filename="screw~screw2_convex_piece_47.obj" scale="1.0000E+00 1.0000E+00 1.0000E+00"/>
      </geometry>
    </collision>
  </link>
  <joint name="link_screw~screw2_convex_piece_47_joint" type="fixed">
    <origin xyz="0 0 0" rpy="0 0 0"/>
    <parent link="link_screw~screw2_convex_piece_46"/>
    <child link="link_screw~screw2_convex_piece_47"/>
  </joint>
  <link name="link_screw~screw2_convex_piece_48">
    <inertial>
      <origin xyz="0 0 0" rpy="0 0 0"/>
      <mass value="4.87E-04"/>
      <inertia ixx="5.88E-07" ixy="-3.80E-08" ixz="3.23E-09" iyy="9.52E-09" iyz="5.53E-08" izz="5.86E-07"/>
    </inertial>
    <visual>
      <origin xyz="0 0 0" rpy="0 0 0"/>
      <geometry>
        <mesh filename="screw~screw2_convex_piece_48.obj" scale="1.0000E+00 1.0000E+00 1.0000E+00"/>
      </geometry>
      <material name=""/>
    </visual>
    <collision>
      <origin xyz="0 0 0" rpy="0 0 0"/>
      <geometry>
        <mesh filename="screw~screw2_convex_piece_48.obj" scale="1.0000E+00 1.0000E+00 1.0000E+00"/>
      </geometry>
    </collision>
  </link>
  <joint name="link_screw~screw2_convex_piece_48_joint" type="fixed">
    <origin xyz="0 0 0" rpy="0 0 0"/>
    <parent link="link_screw~screw2_convex_piece_47"/>
    <child link="link_screw~screw2_convex_piece_48"/>
  </joint>
  <link name="link_screw~screw2_convex_piece_49">
    <inertial>
      <origin xyz="0 0 0" rpy="0 0 0"/>
      <mass value="7.57E-04"/>
      <inertia ixx="3.66E-07" ixy="2.79E-08" ixz="-5.44E-09" iyy="3.15E-08" iyz="8.39E-08" izz="3.48E-07"/>
    </inertial>
    <visual>
      <origin xyz="0 0 0" rpy="0 0 0"/>
      <geometry>
        <mesh filename="screw~screw2_convex_piece_49.obj" scale="1.0000E+00 1.0000E+00 1.0000E+00"/>
      </geometry>
      <material name=""/>
    </visual>
    <collision>
      <origin xyz="0 0 0" rpy="0 0 0"/>
      <geometry>
        <mesh filename="screw~screw2_convex_piece_49.obj" scale="1.0000E+00 1.0000E+00 1.0000E+00"/>
      </geometry>
    </collision>
  </link>
  <joint name="link_screw~screw2_convex_piece_49_joint" type="fixed">
    <origin xyz="0 0 0" rpy="0 0 0"/>
    <parent link="link_screw~screw2_convex_piece_48"/>
    <child link="link_screw~screw2_convex_piece_49"/>
  </joint>
  <link name="link_screw~screw2_convex_piece_50">
    <inertial>
      <origin xyz="0 0 0" rpy="0 0 0"/>
      <mass value="5.68E-04"/>
      <inertia ixx="4.31E-07" ixy="4.02E-09" ixz="-4.37E-10" iyy="1.20E-08" iyz="6.27E-08" izz="4.22E-07"/>
    </inertial>
    <visual>
      <origin xyz="0 0 0" rpy="0 0 0"/>
      <geometry>
        <mesh filename="screw~screw2_convex_piece_50.obj" scale="1.0000E+00 1.0000E+00 1.0000E+00"/>
      </geometry>
      <material name=""/>
    </visual>
    <collision>
      <origin xyz="0 0 0" rpy="0 0 0"/>
      <geometry>
        <mesh filename="screw~screw2_convex_piece_50.obj" scale="1.0000E+00 1.0000E+00 1.0000E+00"/>
      </geometry>
    </collision>
  </link>
  <joint name="link_screw~screw2_convex_piece_50_joint" type="fixed">
    <origin xyz="0 0 0" rpy="0 0 0"/>
    <parent link="link_screw~screw2_convex_piece_49"/>
    <child link="link_screw~screw2_convex_piece_50"/>
  </joint>
  <link name="link_screw~screw2_convex_piece_51">
    <inertial>
      <origin xyz="0 0 0" rpy="0 0 0"/>
      <mass value="2.77E-03"/>
      <inertia ixx="6.92E-07" ixy="-3.91E-07" ixz="4.12E-09" iyy="3.30E-07" iyz="3.76E-09" izz="8.90E-07"/>
    </inertial>
    <visual>
      <origin xyz="0 0 0" rpy="0 0 0"/>
      <geometry>
        <mesh filename="screw~screw2_convex_piece_51.obj" scale="1.0000E+00 1.0000E+00 1.0000E+00"/>
      </geometry>
      <material name=""/>
    </visual>
    <collision>
      <origin xyz="0 0 0" rpy="0 0 0"/>
      <geometry>
        <mesh filename="screw~screw2_convex_piece_51.obj" scale="1.0000E+00 1.0000E+00 1.0000E+00"/>
      </geometry>
    </collision>
  </link>
  <joint name="link_screw~screw2_convex_piece_51_joint" type="fixed">
    <origin xyz="0 0 0" rpy="0 0 0"/>
    <parent link="link_screw~screw2_convex_piece_50"/>
    <child link="link_screw~screw2_convex_piece_51"/>
  </joint>
  <link name="link_screw~screw2_convex_piece_52">
    <inertial>
      <origin xyz="0 0 0" rpy="0 0 0"/>
      <mass value="1.92E-03"/>
      <inertia ixx="3.03E-07" ixy="8.56E-08" ixz="-4.87E-09" iyy="5.03E-08" iyz="5.87E-09" izz="3.34E-07"/>
    </inertial>
    <visual>
      <origin xyz="0 0 0" rpy="0 0 0"/>
      <geometry>
        <mesh filename="screw~screw2_convex_piece_52.obj" scale="1.0000E+00 1.0000E+00 1.0000E+00"/>
      </geometry>
      <material name=""/>
    </visual>
    <collision>
      <origin xyz="0 0 0" rpy="0 0 0"/>
      <geometry>
        <mesh filename="screw~screw2_convex_piece_52.obj" scale="1.0000E+00 1.0000E+00 1.0000E+00"/>
      </geometry>
    </collision>
  </link>
  <joint name="link_screw~screw2_convex_piece_52_joint" type="fixed">
    <origin xyz="0 0 0" rpy="0 0 0"/>
    <parent link="link_screw~screw2_convex_piece_51"/>
    <child link="link_screw~screw2_convex_piece_52"/>
  </joint>
  <link name="link_screw~screw2_convex_piece_53">
    <inertial>
      <origin xyz="0 0 0" rpy="0 0 0"/>
      <mass value="8.10E-04"/>
      <inertia ixx="9.20E-07" ixy="7.51E-08" ixz="4.15E-09" iyy="1.45E-08" iyz="-6.24E-08" izz="9.22E-07"/>
    </inertial>
    <visual>
      <origin xyz="0 0 0" rpy="0 0 0"/>
      <geometry>
        <mesh filename="screw~screw2_convex_piece_53.obj" scale="1.0000E+00 1.0000E+00 1.0000E+00"/>
      </geometry>
      <material name=""/>
    </visual>
    <collision>
      <origin xyz="0 0 0" rpy="0 0 0"/>
      <geometry>
        <mesh filename="screw~screw2_convex_piece_53.obj" scale="1.0000E+00 1.0000E+00 1.0000E+00"/>
      </geometry>
    </collision>
  </link>
  <joint name="link_screw~screw2_convex_piece_53_joint" type="fixed">
    <origin xyz="0 0 0" rpy="0 0 0"/>
    <parent link="link_screw~screw2_convex_piece_52"/>
    <child link="link_screw~screw2_convex_piece_53"/>
  </joint>
  <link name="link_screw~screw2_convex_piece_54">
    <inertial>
      <origin xyz="0 0 0" rpy="0 0 0"/>
      <mass value="9.35E-04"/>
      <inertia ixx="1.10E-06" ixy="-8.98E-08" ixz="-3.26E-09" iyy="1.67E-08" iyz="-5.66E-08" izz="1.10E-06"/>
    </inertial>
    <visual>
      <origin xyz="0 0 0" rpy="0 0 0"/>
      <geometry>
        <mesh filename="screw~screw2_convex_piece_54.obj" scale="1.0000E+00 1.0000E+00 1.0000E+00"/>
      </geometry>
      <material name=""/>
    </visual>
    <collision>
      <origin xyz="0 0 0" rpy="0 0 0"/>
      <geometry>
        <mesh filename="screw~screw2_convex_piece_54.obj" scale="1.0000E+00 1.0000E+00 1.0000E+00"/>
      </geometry>
    </collision>
  </link>
  <joint name="link_screw~screw2_convex_piece_54_joint" type="fixed">
    <origin xyz="0 0 0" rpy="0 0 0"/>
    <parent link="link_screw~screw2_convex_piece_53"/>
    <child link="link_screw~screw2_convex_piece_54"/>
  </joint>
  <link name="link_screw~screw2_convex_piece_55">
    <inertial>
      <origin xyz="0 0 0" rpy="0 0 0"/>
      <mass value="1.57E-03"/>
      <inertia ixx="5.46E-07" ixy="-2.85E-07" ixz="-2.79E-08" iyy="1.84E-07" iyz="-4.60E-08" izz="6.90E-07"/>
    </inertial>
    <visual>
      <origin xyz="0 0 0" rpy="0 0 0"/>
      <geometry>
        <mesh filename="screw~screw2_convex_piece_55.obj" scale="1.0000E+00 1.0000E+00 1.0000E+00"/>
      </geometry>
      <material name=""/>
    </visual>
    <collision>
      <origin xyz="0 0 0" rpy="0 0 0"/>
      <geometry>
        <mesh filename="screw~screw2_convex_piece_55.obj" scale="1.0000E+00 1.0000E+00 1.0000E+00"/>
      </geometry>
    </collision>
  </link>
  <joint name="link_screw~screw2_convex_piece_55_joint" type="fixed">
    <origin xyz="0 0 0" rpy="0 0 0"/>
    <parent link="link_screw~screw2_convex_piece_54"/>
    <child link="link_screw~screw2_convex_piece_55"/>
  </joint>
  <link name="link_screw~screw2_convex_piece_56">
    <inertial>
      <origin xyz="0 0 0" rpy="0 0 0"/>
      <mass value="1.21E-03"/>
      <inertia ixx="5.47E-07" ixy="-4.53E-08" ixz="2.48E-08" iyy="1.42E-07" iyz="2.23E-07" izz="4.44E-07"/>
    </inertial>
    <visual>
      <origin xyz="0 0 0" rpy="0 0 0"/>
      <geometry>
        <mesh filename="screw~screw2_convex_piece_56.obj" scale="1.0000E+00 1.0000E+00 1.0000E+00"/>
      </geometry>
      <material name=""/>
    </visual>
    <collision>
      <origin xyz="0 0 0" rpy="0 0 0"/>
      <geometry>
        <mesh filename="screw~screw2_convex_piece_56.obj" scale="1.0000E+00 1.0000E+00 1.0000E+00"/>
      </geometry>
    </collision>
  </link>
  <joint name="link_screw~screw2_convex_piece_56_joint" type="fixed">
    <origin xyz="0 0 0" rpy="0 0 0"/>
    <parent link="link_screw~screw2_convex_piece_55"/>
    <child link="link_screw~screw2_convex_piece_56"/>
  </joint>
  <link name="link_screw~screw2_convex_piece_57">
    <inertial>
      <origin xyz="0 0 0" rpy="0 0 0"/>
      <mass value="8.57E-04"/>
      <inertia ixx="6.28E-07" ixy="-9.04E-08" ixz="9.62E-10" iyy="2.08E-08" iyz="9.15E-09" izz="6.36E-07"/>
    </inertial>
    <visual>
      <origin xyz="0 0 0" rpy="0 0 0"/>
      <geometry>
        <mesh filename="screw~screw2_convex_piece_57.obj" scale="1.0000E+00 1.0000E+00 1.0000E+00"/>
      </geometry>
      <material name=""/>
    </visual>
    <collision>
      <origin xyz="0 0 0" rpy="0 0 0"/>
      <geometry>
        <mesh filename="screw~screw2_convex_piece_57.obj" scale="1.0000E+00 1.0000E+00 1.0000E+00"/>
      </geometry>
    </collision>
  </link>
  <joint name="link_screw~screw2_convex_piece_57_joint" type="fixed">
    <origin xyz="0 0 0" rpy="0 0 0"/>
    <parent link="link_screw~screw2_convex_piece_56"/>
    <child link="link_screw~screw2_convex_piece_57"/>
  </joint>
  <link name="link_screw~screw2_convex_piece_58">
    <inertial>
      <origin xyz="0 0 0" rpy="0 0 0"/>
      <mass value="2.28E-03"/>
      <inertia ixx="8.81E-07" ixy="-9.20E-09" ixz="5.52E-09" iyy="4.95E-07" iyz="4.23E-07" izz="4.69E-07"/>
    </inertial>
    <visual>
      <origin xyz="0 0 0" rpy="0 0 0"/>
      <geometry>
        <mesh filename="screw~screw2_convex_piece_58.obj" scale="1.0000E+00 1.0000E+00 1.0000E+00"/>
      </geometry>
      <material name=""/>
    </visual>
    <collision>
      <origin xyz="0 0 0" rpy="0 0 0"/>
      <geometry>
        <mesh filename="screw~screw2_convex_piece_58.obj" scale="1.0000E+00 1.0000E+00 1.0000E+00"/>
      </geometry>
    </collision>
  </link>
  <joint name="link_screw~screw2_convex_piece_58_joint" type="fixed">
    <origin xyz="0 0 0" rpy="0 0 0"/>
    <parent link="link_screw~screw2_convex_piece_57"/>
    <child link="link_screw~screw2_convex_piece_58"/>
  </joint>
  <link name="link_screw~screw2_convex_piece_59">
    <inertial>
      <origin xyz="0 0 0" rpy="0 0 0"/>
      <mass value="5.97E-04"/>
      <inertia ixx="3.82E-07" ixy="4.84E-08" ixz="3.71E-10" iyy="1.43E-08" iyz="-1.17E-08" izz="3.83E-07"/>
    </inertial>
    <visual>
      <origin xyz="0 0 0" rpy="0 0 0"/>
      <geometry>
        <mesh filename="screw~screw2_convex_piece_59.obj" scale="1.0000E+00 1.0000E+00 1.0000E+00"/>
      </geometry>
      <material name=""/>
    </visual>
    <collision>
      <origin xyz="0 0 0" rpy="0 0 0"/>
      <geometry>
        <mesh filename="screw~screw2_convex_piece_59.obj" scale="1.0000E+00 1.0000E+00 1.0000E+00"/>
      </geometry>
    </collision>
  </link>
  <joint name="link_screw~screw2_convex_piece_59_joint" type="fixed">
    <origin xyz="0 0 0" rpy="0 0 0"/>
    <parent link="link_screw~screw2_convex_piece_58"/>
    <child link="link_screw~screw2_convex_piece_59"/>
  </joint>
  <link name="link_screw~screw2_convex_piece_60">
    <inertial>
      <origin xyz="0 0 0" rpy="0 0 0"/>
      <mass value="2.54E-03"/>
      <inertia ixx="2.71E-07" ixy="-2.29E-08" ixz="-2.73E-09" iyy="3.75E-08" iyz="-1.22E-08" izz="2.71E-07"/>
    </inertial>
    <visual>
      <origin xyz="0 0 0" rpy="0 0 0"/>
      <geometry>
        <mesh filename="screw~screw2_convex_piece_60.obj" scale="1.0000E+00 1.0000E+00 1.0000E+00"/>
      </geometry>
      <material name=""/>
    </visual>
    <collision>
      <origin xyz="0 0 0" rpy="0 0 0"/>
      <geometry>
        <mesh filename="screw~screw2_convex_piece_60.obj" scale="1.0000E+00 1.0000E+00 1.0000E+00"/>
      </geometry>
    </collision>
  </link>
  <joint name="link_screw~screw2_convex_piece_60_joint" type="fixed">
    <origin xyz="0 0 0" rpy="0 0 0"/>
    <parent link="link_screw~screw2_convex_piece_59"/>
    <child link="link_screw~screw2_convex_piece_60"/>
  </joint>
  <link name="link_screw~screw2_convex_piece_61">
    <inertial>
      <origin xyz="0 0 0" rpy="0 0 0"/>
      <mass value="3.05E-03"/>
      <inertia ixx="5.10E-07" ixy="-2.81E-08" ixz="2.67E-07" iyy="6.37E-07" iyz="4.31E-08" izz="2.97E-07"/>
    </inertial>
    <visual>
      <origin xyz="0 0 0" rpy="0 0 0"/>
      <geometry>
        <mesh filename="screw~screw2_convex_piece_61.obj" scale="1.0000E+00 1.0000E+00 1.0000E+00"/>
      </geometry>
      <material name=""/>
    </visual>
    <collision>
      <origin xyz="0 0 0" rpy="0 0 0"/>
      <geometry>
        <mesh filename="screw~screw2_convex_piece_61.obj" scale="1.0000E+00 1.0000E+00 1.0000E+00"/>
      </geometry>
    </collision>
  </link>
  <joint name="link_screw~screw2_convex_piece_61_joint" type="fixed">
    <origin xyz="0 0 0" rpy="0 0 0"/>
    <parent link="link_screw~screw2_convex_piece_60"/>
    <child link="link_screw~screw2_convex_piece_61"/>
  </joint>
  <link name="link_screw~screw2_convex_piece_62">
    <inertial>
      <origin xyz="0 0 0" rpy="0 0 0"/>
      <mass value="2.47E-03"/>
      <inertia ixx="1.10E-06" ixy="-1.09E-07" ixz="-4.38E-08" iyy="3.42E-07" iyz="-4.57E-07" izz="8.77E-07"/>
    </inertial>
    <visual>
      <origin xyz="0 0 0" rpy="0 0 0"/>
      <geometry>
        <mesh filename="screw~screw2_convex_piece_62.obj" scale="1.0000E+00 1.0000E+00 1.0000E+00"/>
      </geometry>
      <material name=""/>
    </visual>
    <collision>
      <origin xyz="0 0 0" rpy="0 0 0"/>
      <geometry>
        <mesh filename="screw~screw2_convex_piece_62.obj" scale="1.0000E+00 1.0000E+00 1.0000E+00"/>
      </geometry>
    </collision>
  </link>
  <joint name="link_screw~screw2_convex_piece_62_joint" type="fixed">
    <origin xyz="0 0 0" rpy="0 0 0"/>
    <parent link="link_screw~screw2_convex_piece_61"/>
    <child link="link_screw~screw2_convex_piece_62"/>
  </joint>
  <link name="link_screw~screw2_convex_piece_63">
    <inertial>
      <origin xyz="0 0 0" rpy="0 0 0"/>
      <mass value="1.42E-03"/>
      <inertia ixx="4.99E-07" ixy="1.05E-07" ixz="-2.87E-08" iyy="9.52E-08" iyz="1.40E-07" izz="4.89E-07"/>
    </inertial>
    <visual>
      <origin xyz="0 0 0" rpy="0 0 0"/>
      <geometry>
        <mesh filename="screw~screw2_convex_piece_63.obj" scale="1.0000E+00 1.0000E+00 1.0000E+00"/>
      </geometry>
      <material name=""/>
    </visual>
    <collision>
      <origin xyz="0 0 0" rpy="0 0 0"/>
      <geometry>
        <mesh filename="screw~screw2_convex_piece_63.obj" scale="1.0000E+00 1.0000E+00 1.0000E+00"/>
      </geometry>
    </collision>
  </link>
  <joint name="link_screw~screw2_convex_piece_63_joint" type="fixed">
    <origin xyz="0 0 0" rpy="0 0 0"/>
    <parent link="link_screw~screw2_convex_piece_62"/>
    <child link="link_screw~screw2_convex_piece_63"/>
  </joint>
</robot>
